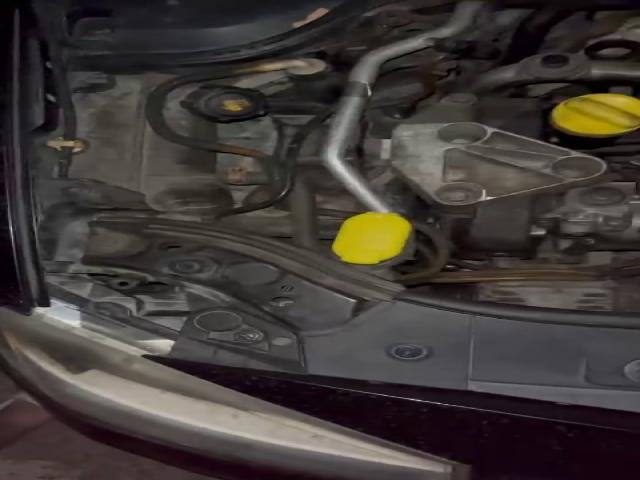antifreeze_tank: (71, 74, 245, 212), (163, 83, 267, 141)
